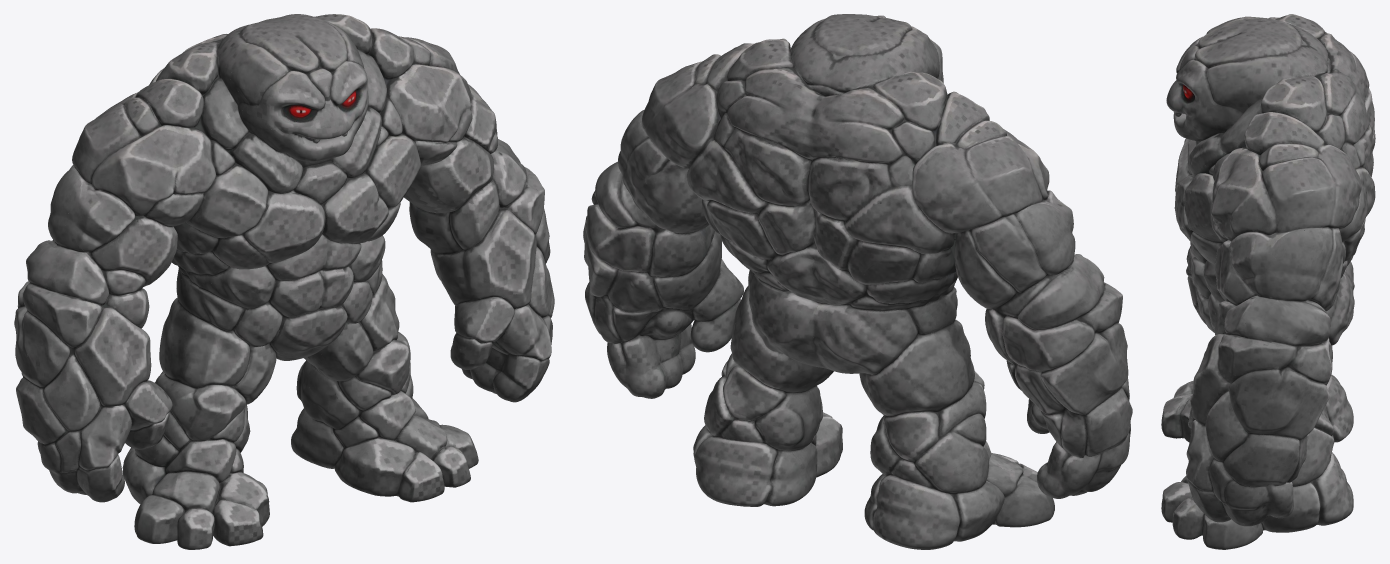
The model's file is golem.glb.
3 renders of one model, left to right at view 1: azimuth 30°, elevation 25°; view 2: azimuth 150°, elevation 25°; view 3: azimuth 270°, elevation 25°, orthographic. The views are drawn at different scales.
Visible parts, largest first — view 1: Mesh_0.001; view 2: Mesh_0.001; view 3: Mesh_0.001.
Part boxes in pixels (x1,y1,x2,y2): Mesh_0.001: (14,14,554,549); Mesh_0.001: (583,14,1132,549); Mesh_0.001: (1161,14,1375,549).
Size of the model in its own units: 1.9 by 1.61 by 0.705.
Materials: 1 (1 with a texture image).
